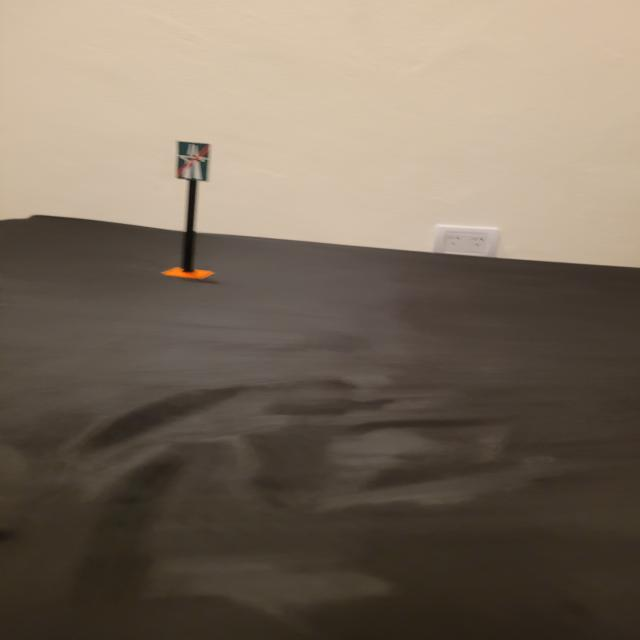highway_exit: (176, 140, 208, 182)
